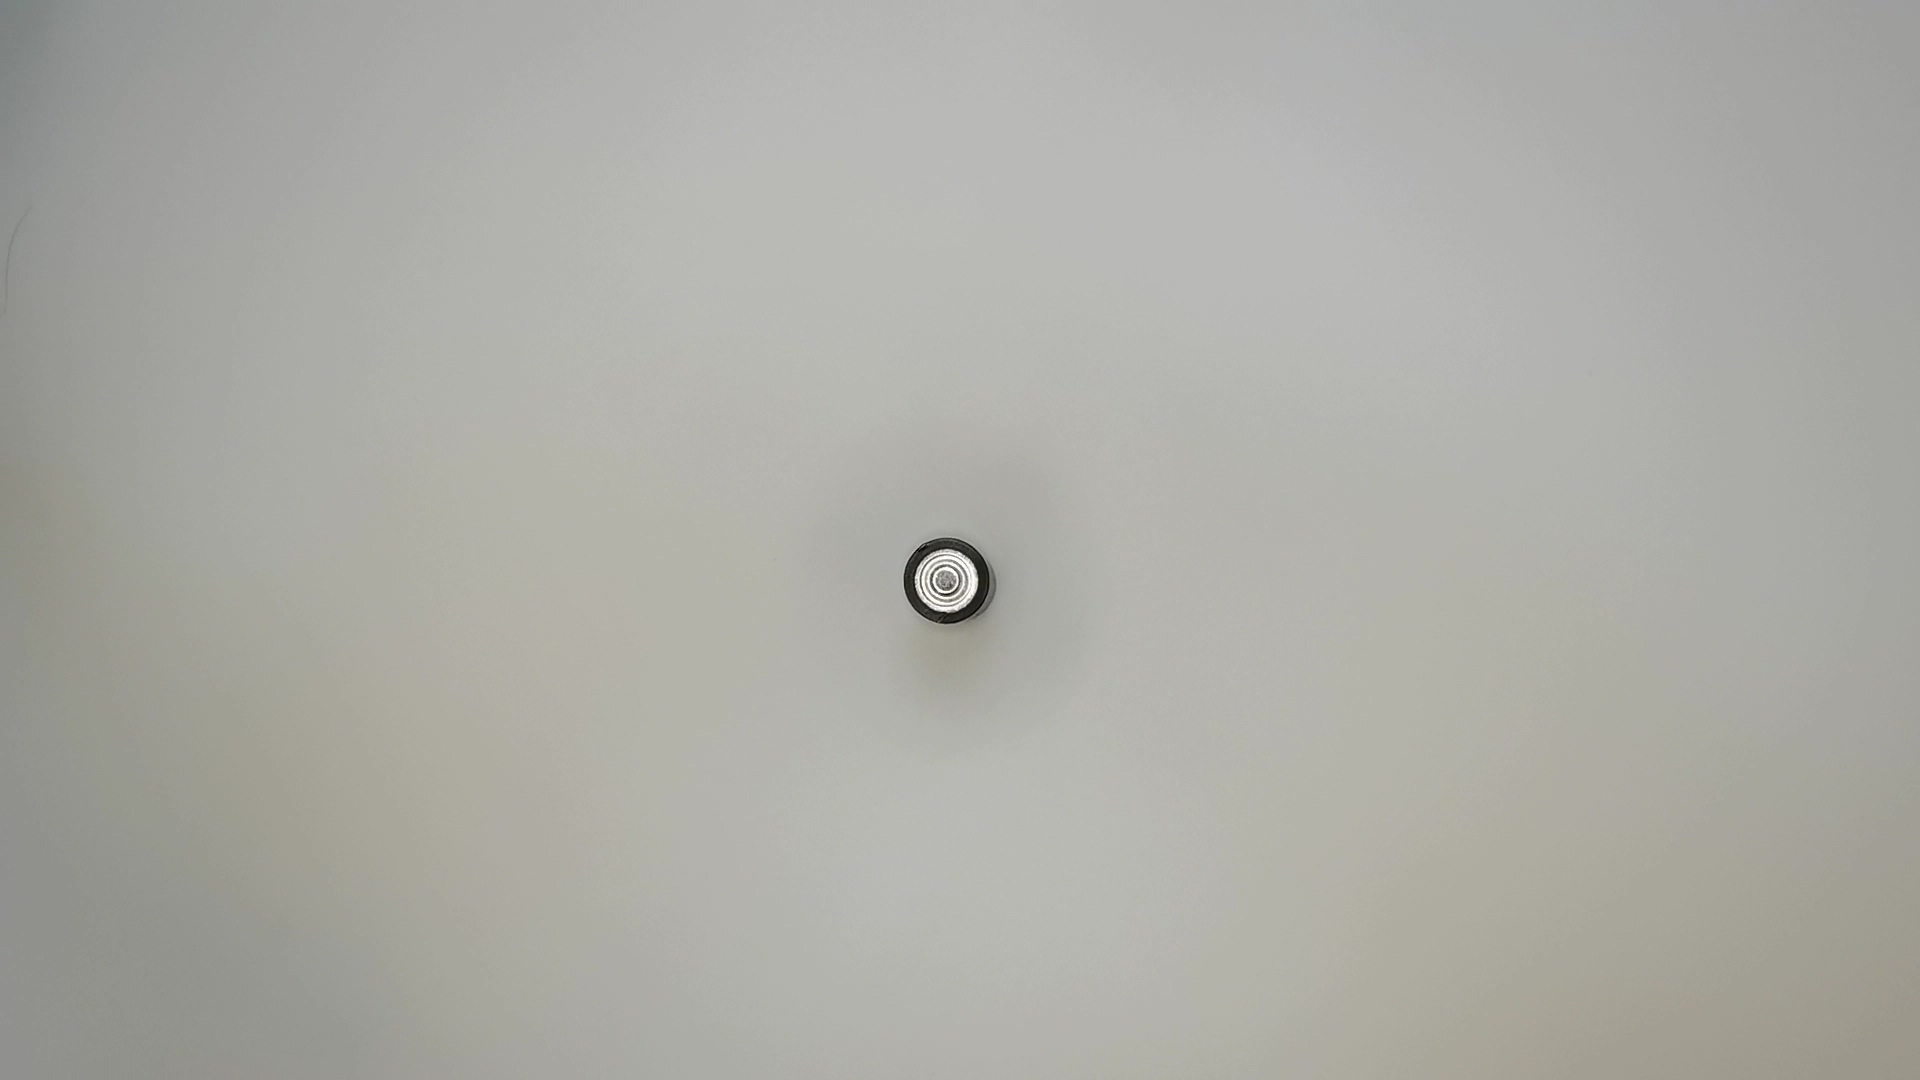battery: (899, 535, 1010, 626)
